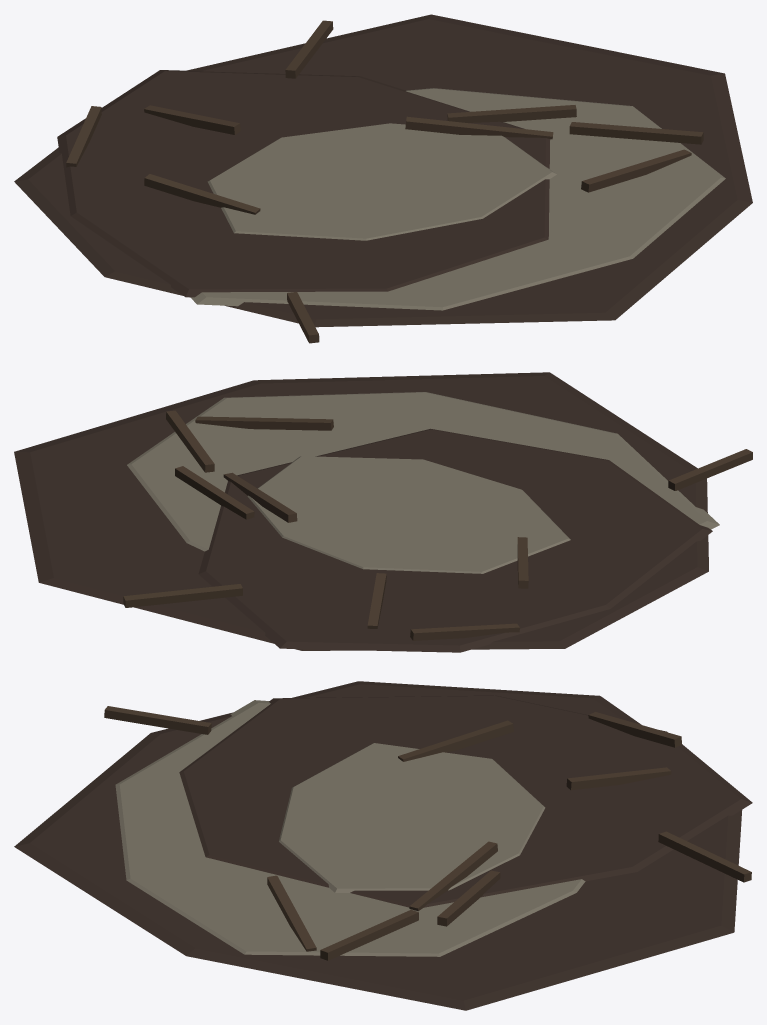
Rendered from ash_patch.glb.
The picture shows the model from 3 angles, top to bottom: view 1: azimuth 30°, elevation 25°; view 2: azimuth 150°, elevation 25°; view 3: azimuth 270°, elevation 25°; orthographic projection. The views are drawn at different scales.
Parts seen in each view (by area): view 1: ash_patch; view 2: ash_patch; view 3: ash_patch.
Part boxes in pixels (box(x1,y1,x2,y2)): ash_patch: box(14, 14, 752, 343); ash_patch: box(14, 372, 752, 652); ash_patch: box(14, 681, 752, 1010).
Bounding box in the file's own units: 3.37 × 0.0994 × 3.19.
Materials: 2 (2 with a texture image).
